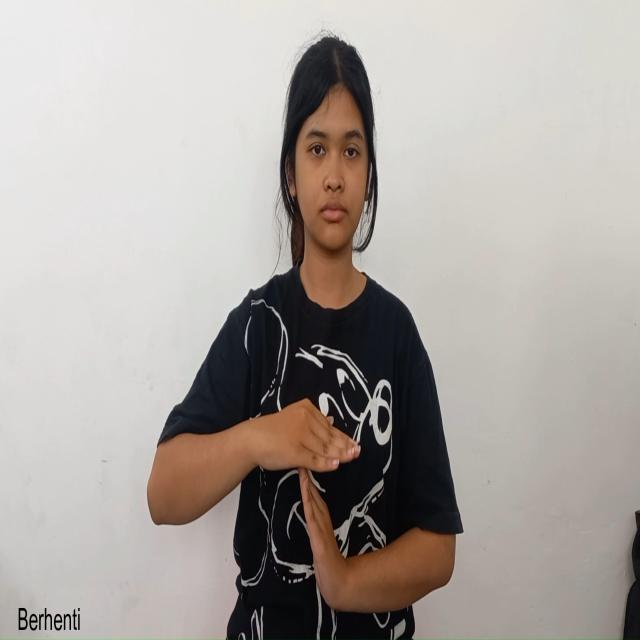Berhenti -BISINDO-: (241, 395, 402, 615)
